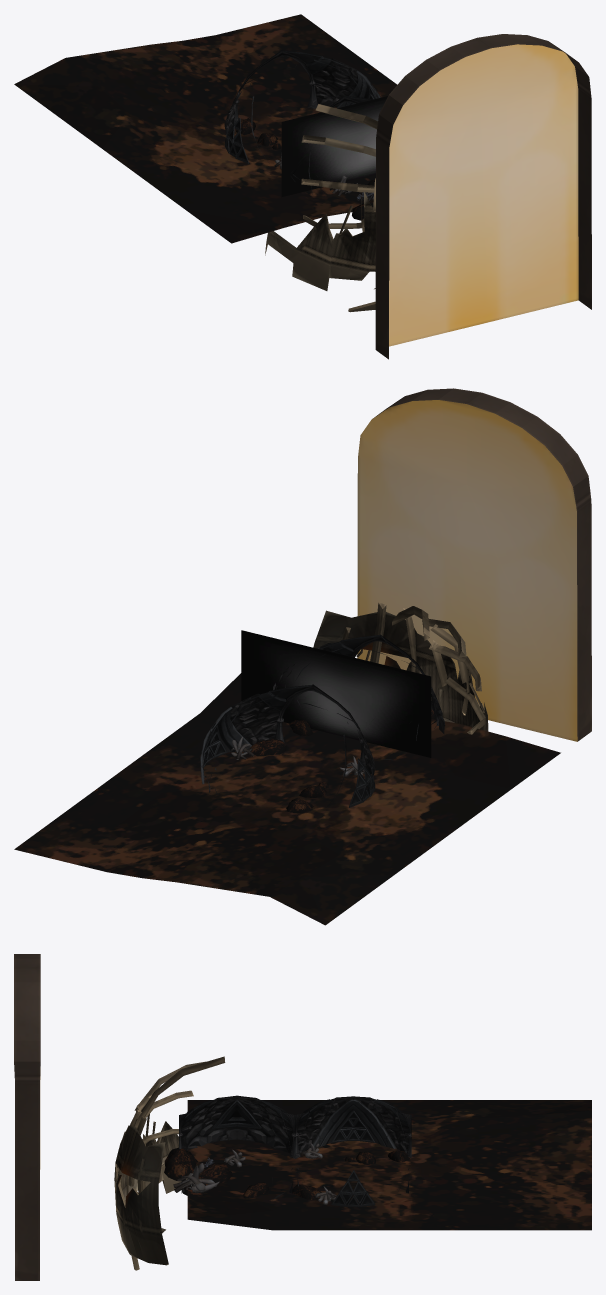
File: env_geonosis_catacombs_pre.glb
The picture shows the model from 3 angles, top to bottom: view 1: azimuth 30°, elevation 25°; view 2: azimuth 150°, elevation 25°; view 3: azimuth 270°, elevation 25°; orthographic projection. The views are drawn at different scales.
Parts seen in each view (by area): view 1: cor_jt_archplug_mesh, cave_ground_mesh, jak_misc02a_mesh, fogplane_01_mesh, geo_arch_wall_01_mesh; view 2: cor_jt_archplug_mesh, cave_ground_mesh, fogplane_01_mesh, jak_misc02a_mesh, geo_arch_wall_01_mesh, geo_arch_wall_02_mesh; view 3: cave_ground_mesh, cor_jt_archplug_mesh, jak_misc02a_mesh, geo_arch_wall_01_mesh, geo_arch_wall_02_mesh, debrispile_04_mesh (1), geo_bones_01_mesh (2), debrispile_04_mesh (5).
Part boxes in pixels (left/top/right/bottom): cor_jt_archplug_mesh: left=375, top=34, right=591, bottom=359; cave_ground_mesh: left=14, top=14, right=396, bottom=243; jak_misc02a_mesh: left=265, top=104, right=377, bottom=312; fogplane_01_mesh: left=281, top=96, right=387, bottom=196; geo_arch_wall_01_mesh: left=224, top=50, right=380, bottom=163; cor_jt_archplug_mesh: left=357, top=388, right=591, bottom=741; cave_ground_mesh: left=14, top=673, right=560, bottom=925; fogplane_01_mesh: left=241, top=630, right=431, bottom=757; jak_misc02a_mesh: left=313, top=602, right=488, bottom=734; geo_arch_wall_01_mesh: left=200, top=684, right=375, bottom=807; geo_arch_wall_02_mesh: left=273, top=634, right=445, bottom=760; cave_ground_mesh: left=187, top=1100, right=591, bottom=1230; cor_jt_archplug_mesh: left=14, top=954, right=40, bottom=1280; jak_misc02a_mesh: left=114, top=1056, right=225, bottom=1270; geo_arch_wall_01_mesh: left=295, top=1096, right=411, bottom=1206; geo_arch_wall_02_mesh: left=179, top=1095, right=295, bottom=1199; debrispile_04_mesh (1): left=164, top=1147, right=197, bottom=1181; geo_bones_01_mesh (2): left=173, top=1163, right=219, bottom=1193; debrispile_04_mesh (5): left=182, top=1163, right=232, bottom=1195.
Size of the model in its own units: 48.8 by 49.24 by 91.52.
8 materials, 8 textured.
